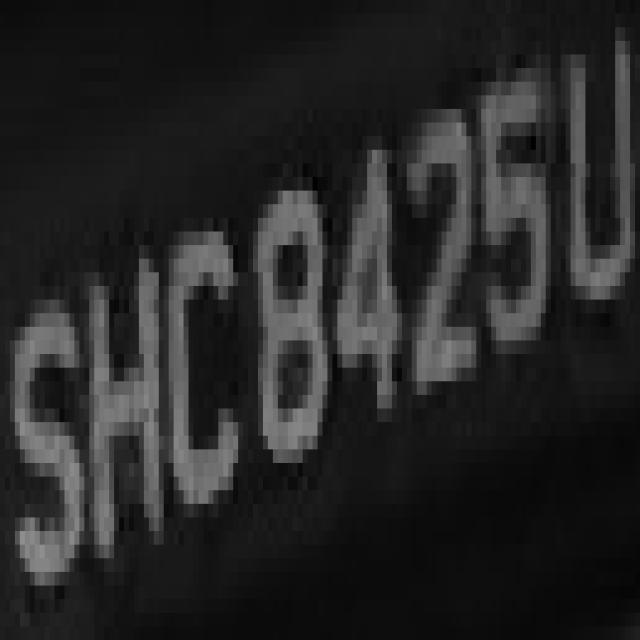2: (392, 82, 486, 422)
4: (327, 109, 412, 504)
5: (471, 27, 551, 395)
8: (248, 122, 337, 504)
C: (164, 190, 258, 586)
H: (94, 191, 174, 572)
S: (10, 245, 74, 613)
U: (565, 0, 640, 367)
